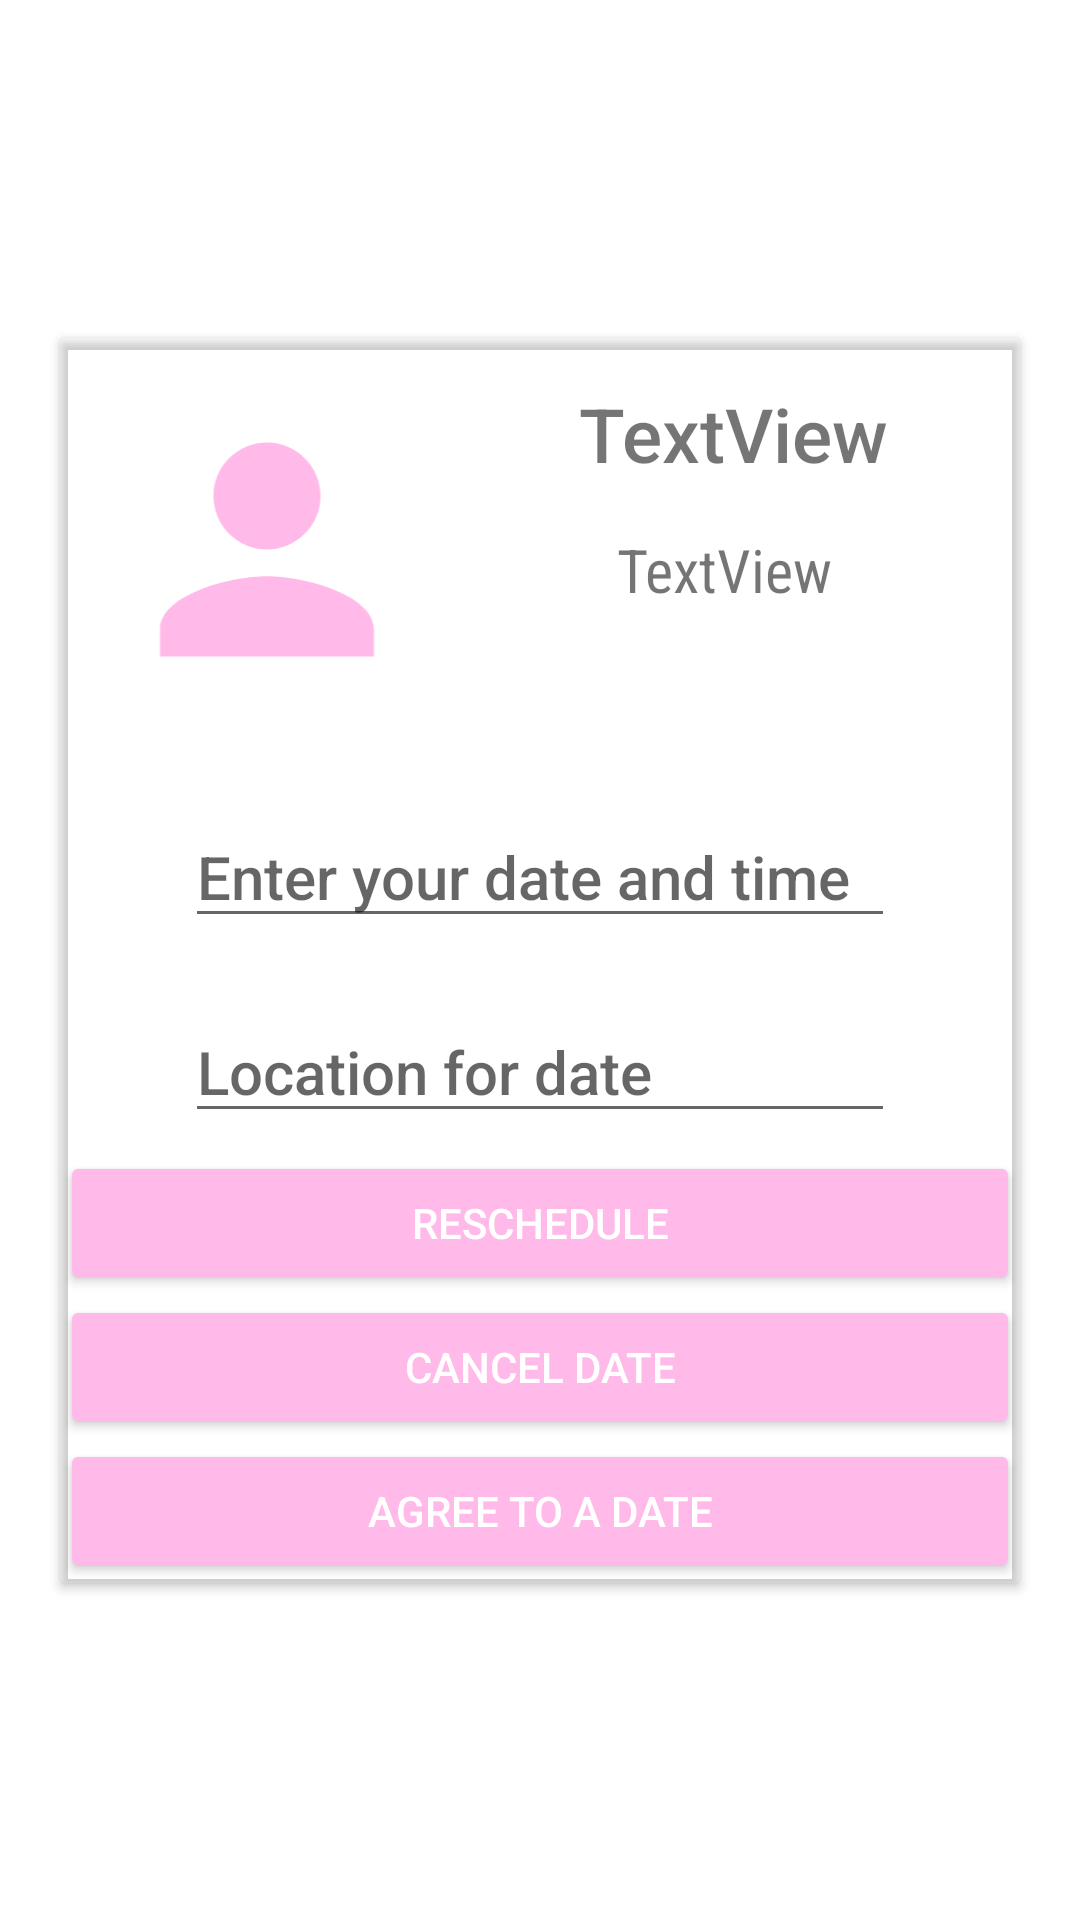

Named icons in this screenshot (1080×1920) and their centers, [x,y]:
profile pic: [267,549]
